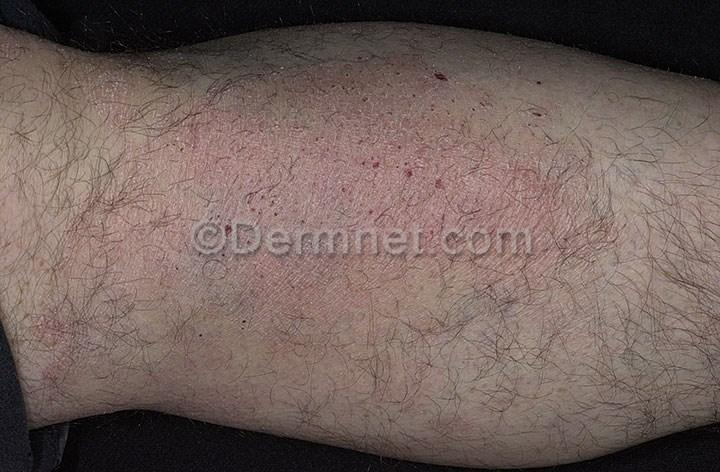Eczema: (306, 120, 482, 224), (212, 254, 388, 353), (154, 127, 294, 215), (376, 42, 504, 122)
